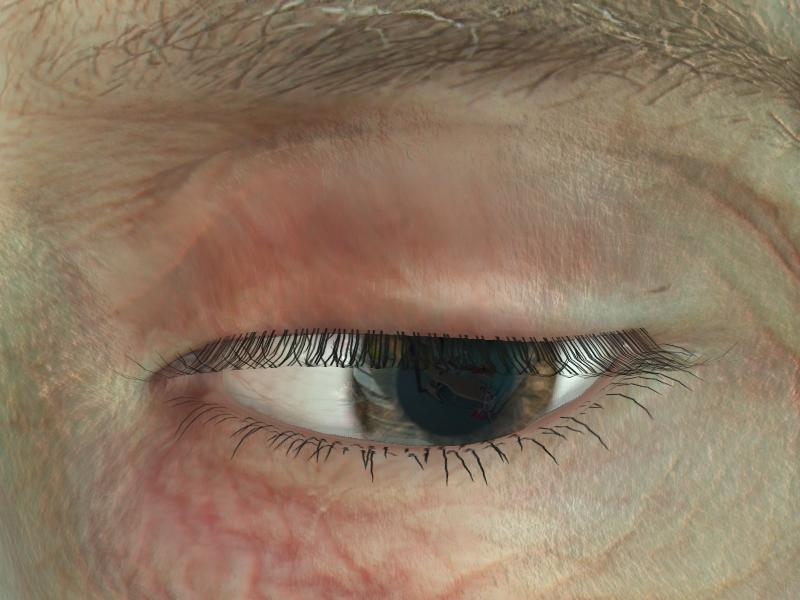eye: (353, 332, 552, 446)
